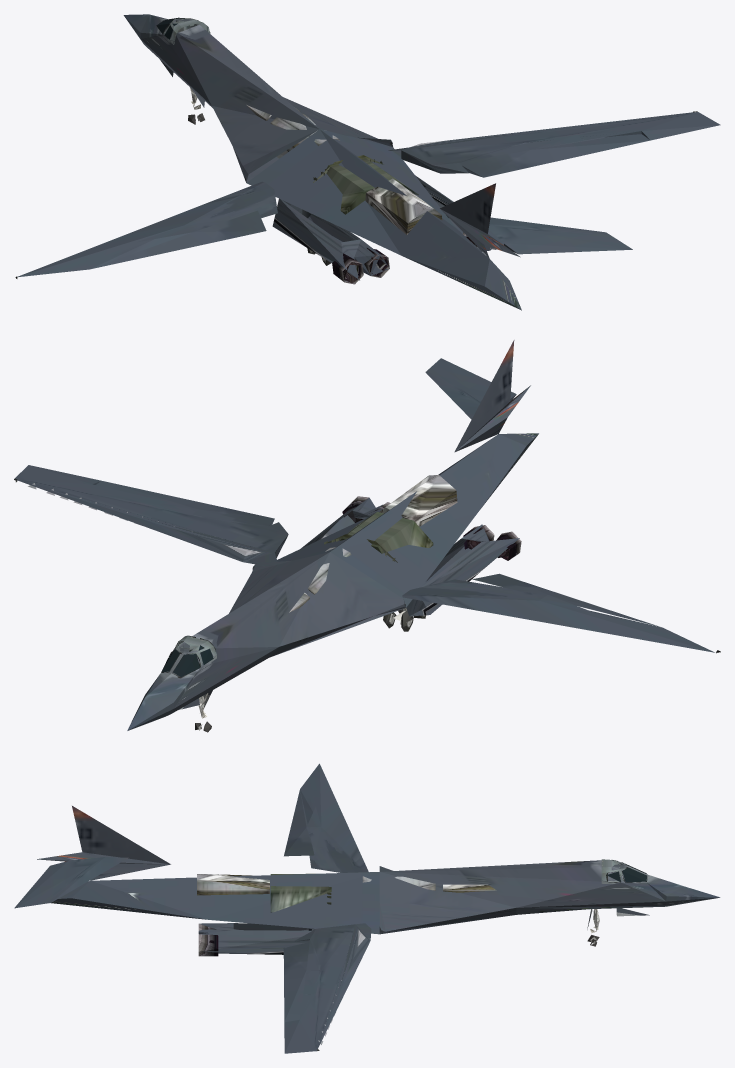
The picture shows the model from 3 angles, top to bottom: view 1: azimuth 30°, elevation 25°; view 2: azimuth 150°, elevation 25°; view 3: azimuth 270°, elevation 25°; orthographic projection. The views are drawn at different scales.
Visible parts, largest first — view 1: Object_23, Object_36, Object_22, Object_24, Object_37, Object_27; view 2: Object_22, Object_36, Object_23, Object_24, Object_37, Object_27, Object_13; view 3: Object_22, Object_23, Object_36, Object_37, Object_24, Object_27.
Part boxes in pixels (x1,y1,x2,y2): Object_23: (246, 129, 521, 310); Object_36: (388, 112, 720, 254); Object_22: (123, 14, 392, 182); Object_24: (17, 181, 277, 277); Object_37: (272, 175, 520, 280); Object_27: (188, 87, 496, 284); Object_22: (127, 552, 405, 730); Object_36: (14, 358, 516, 564); Object_23: (277, 433, 538, 607); Object_24: (402, 573, 714, 652); Object_37: (301, 340, 530, 616); Object_27: (178, 474, 521, 732); Object_13: (161, 645, 213, 677); Object_22: (379, 860, 720, 934); Object_23: (51, 872, 379, 934); Object_36: (14, 857, 371, 1053); Object_37: (37, 806, 315, 954); Object_24: (284, 763, 368, 872); Object_27: (197, 873, 642, 956).
Size of the model in its own units: 44.72 by 10.43 by 45.79.
Materials: 23 (22 with a texture image).
